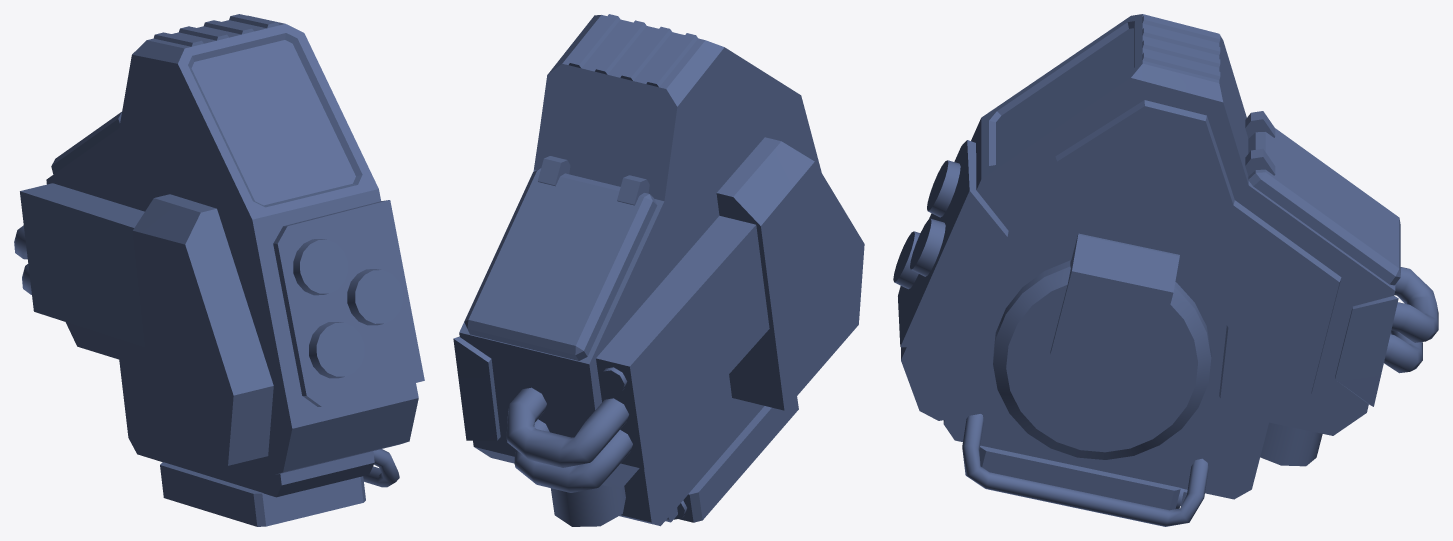
File: Missile_hive_v2_L.FBX
3 views of the same model, side by side, from view 1: azimuth 30°, elevation 25°; view 2: azimuth 150°, elevation 25°; view 3: azimuth 270°, elevation 25° (orthographic). The views are drawn at different scales.
Visible parts, largest first — view 1: Missile_hive_v2_L; view 2: Missile_hive_v2_L; view 3: Missile_hive_v2_L.
Boxes of the visible parts, box(x1,y1,x2,y2) form: Missile_hive_v2_L: box(14, 14, 424, 526); Missile_hive_v2_L: box(453, 14, 864, 526); Missile_hive_v2_L: box(893, 14, 1438, 526).
Bounding box in the file's own units: 1.37 × 3.12 × 3.33.
